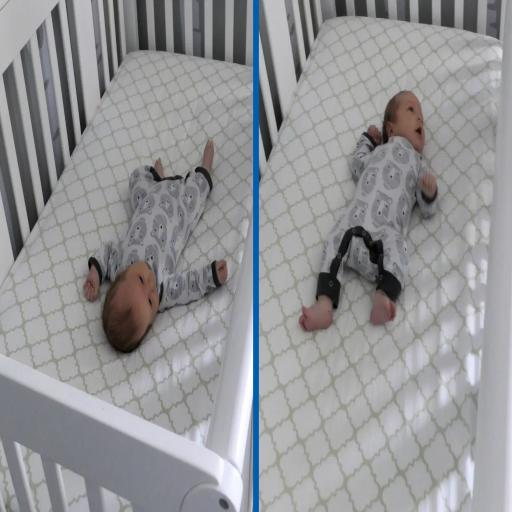baby: (300, 92, 437, 330), (84, 141, 227, 352)
crib: (0, 0, 252, 511), (259, 0, 511, 511)
